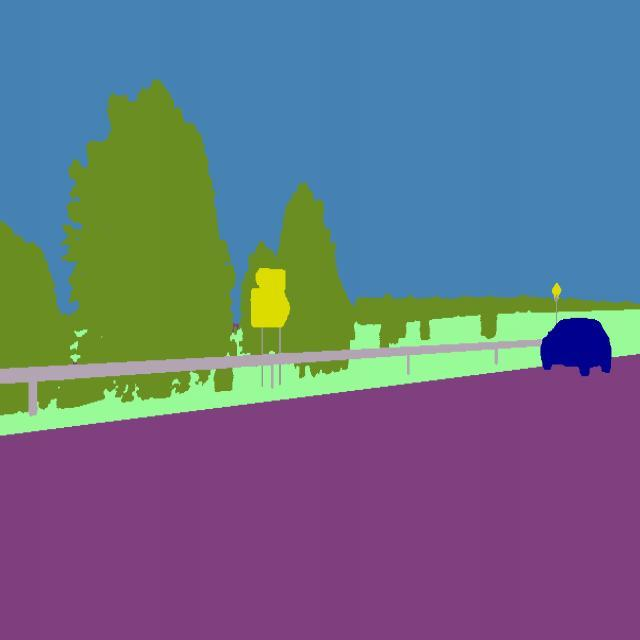safe: (540, 316, 614, 382)
